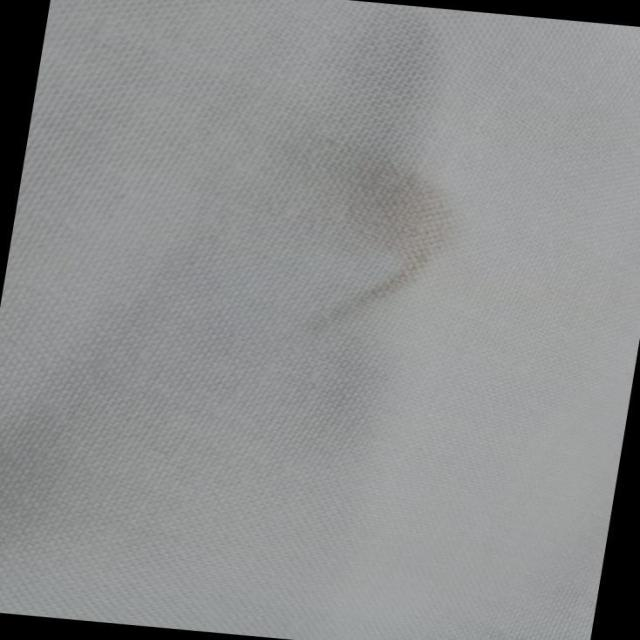stain: (278, 138, 474, 354)
